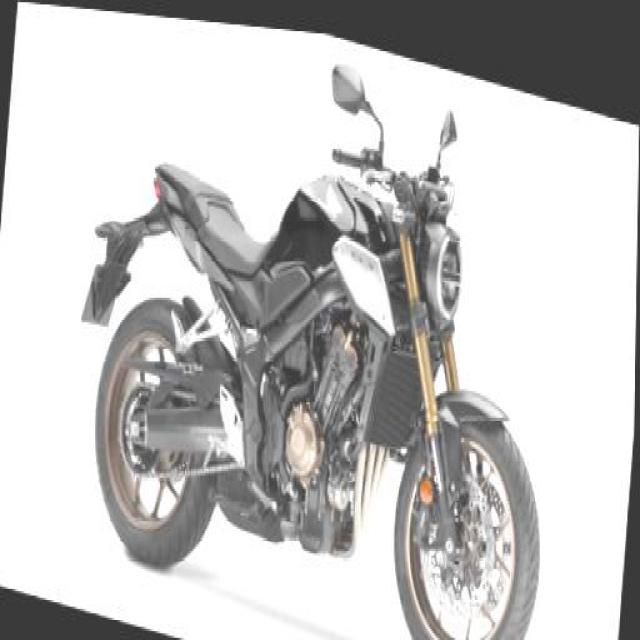CB650R: (79, 73, 571, 638)
